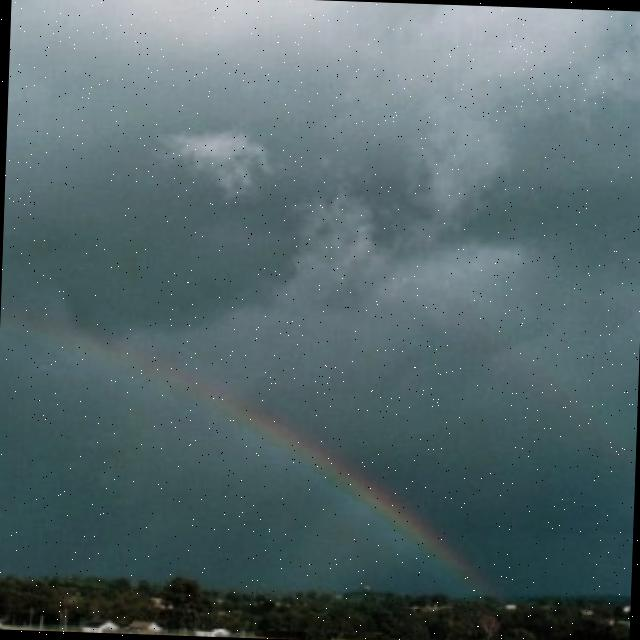St: (1, 1, 640, 442)
